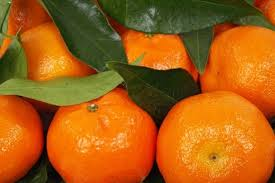orange: (159, 83, 274, 183), (95, 8, 206, 111), (45, 84, 156, 183), (1, 15, 104, 108), (202, 24, 275, 122)
